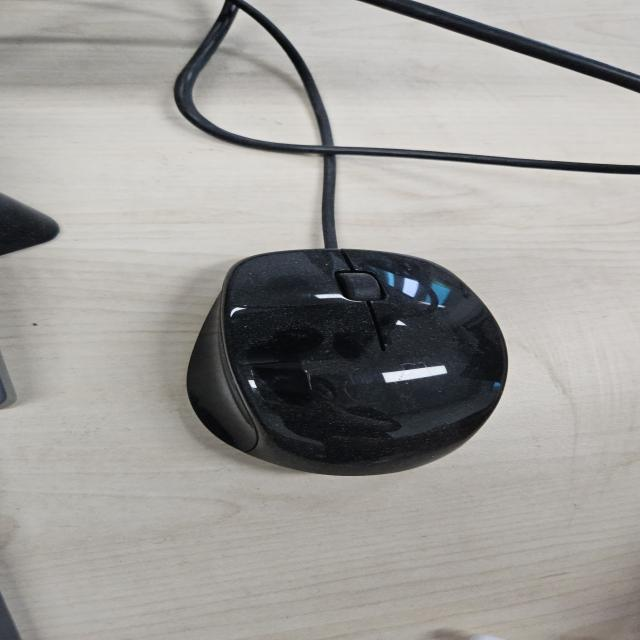Mouse: (183, 246, 511, 477)
